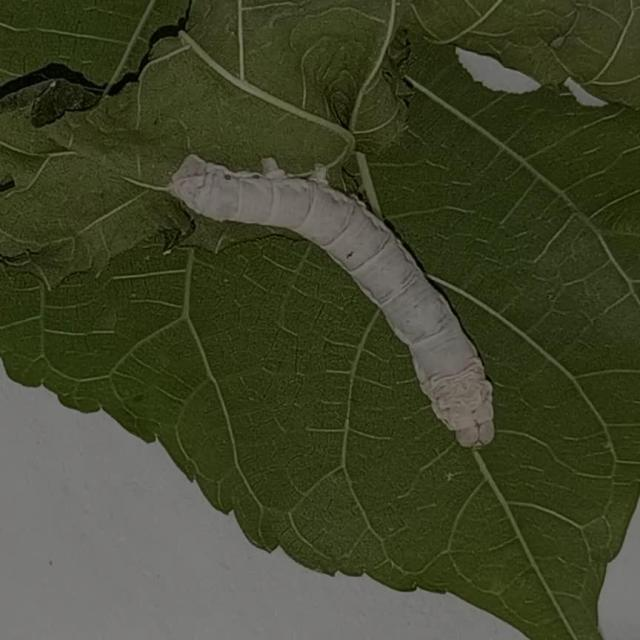Healthy: (158, 129, 522, 487)
